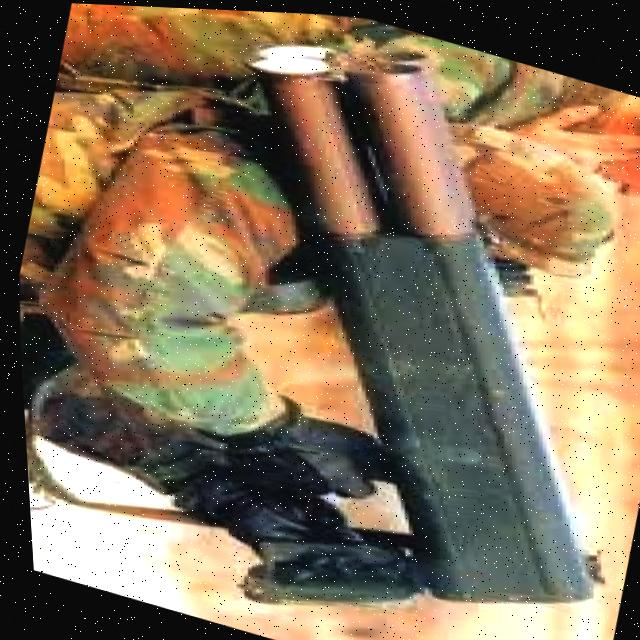rocket: (100, 3, 640, 640)
